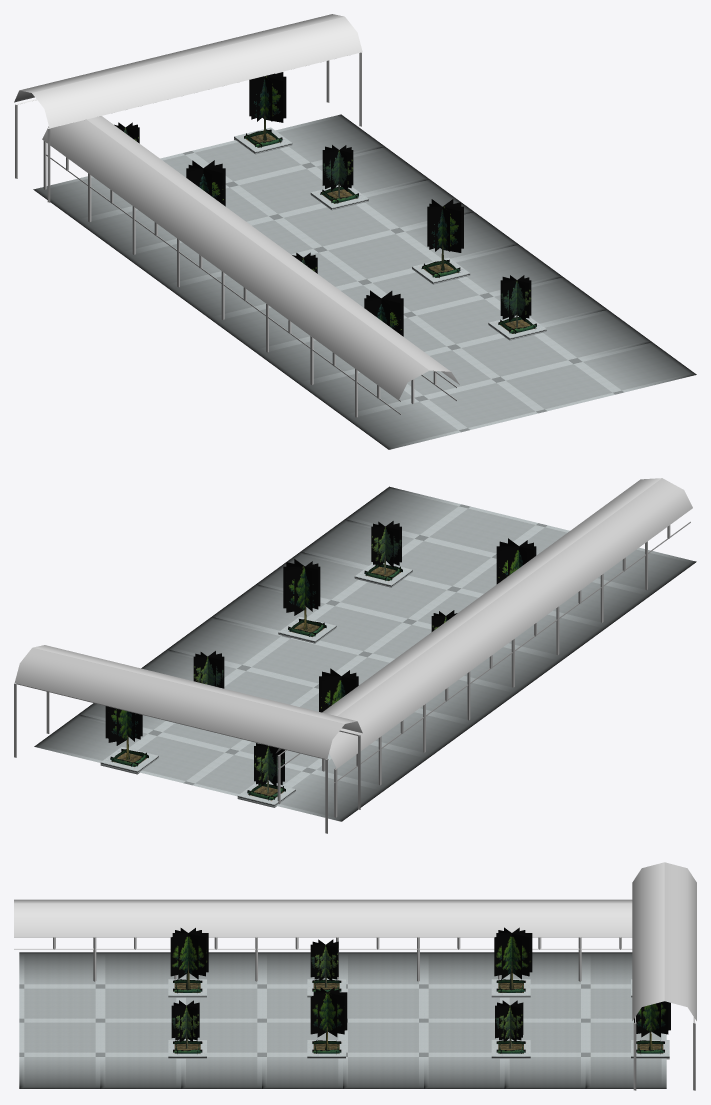
The model's file is KOMIKE_03.glb.
3 renders of one model, top to bottom at view 1: azimuth 30°, elevation 25°; view 2: azimuth 150°, elevation 25°; view 3: azimuth 270°, elevation 25°, orthographic. The views are drawn at different scales.
Visible parts, largest first — view 1: st2; view 2: st2; view 3: st2.
Part boxes in pixels (x1,y1,x2,y2): st2: [14, 14, 696, 449]; st2: [14, 478, 696, 833]; st2: [14, 862, 696, 1090].
Bounding box in the file's own units: 102 × 30.61 × 211.
7 materials, 6 textured.
